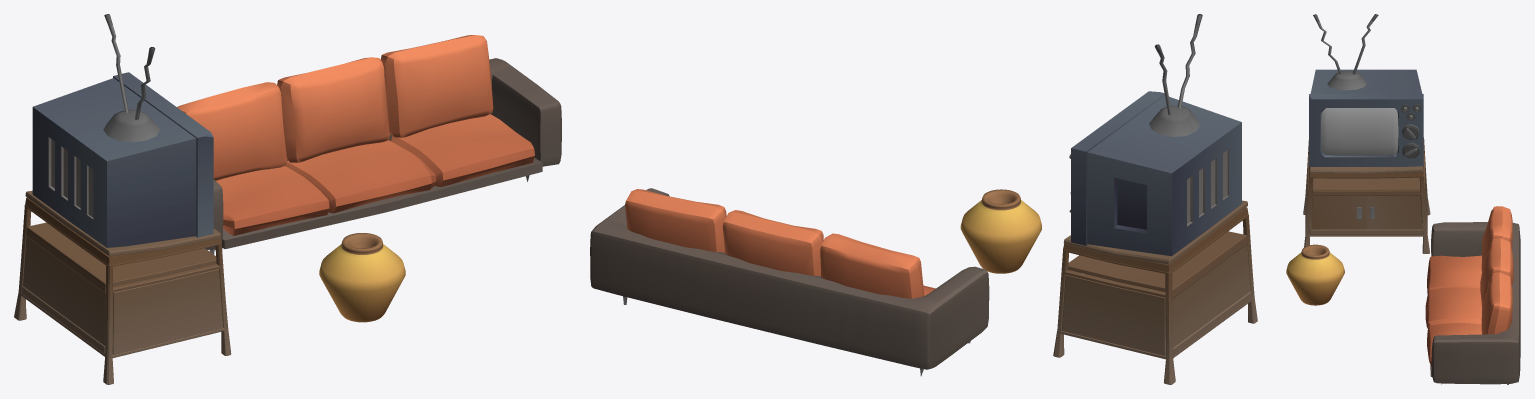
Rendered from Scene2_props.fbx.
The picture shows the model from 3 angles, left to right: view 1: azimuth 30°, elevation 25°; view 2: azimuth 150°, elevation 25°; view 3: azimuth 270°, elevation 25°; orthographic projection. The views are drawn at different scales.
Parts seen in each view (by area): view 1: Couch, TVPotato, Bud_blue_vase; view 2: TVPotato, Couch, Bud_blue_vase; view 3: TVPotato, Couch, Bud_blue_vase.
Boxes of the visible parts, x1,y1,x2,y2 form: Couch: (177, 35, 561, 254); TVPotato: (14, 14, 231, 384); Bud_blue_vase: (319, 233, 405, 322); TVPotato: (1053, 14, 1257, 384); Couch: (590, 188, 989, 376); Bud_blue_vase: (960, 189, 1041, 273); TVPotato: (1303, 14, 1430, 253); Couch: (1425, 206, 1520, 384); Bud_blue_vase: (1286, 244, 1344, 305).
Size of the model in its own units: 5.92 by 3.26 by 3.2.
